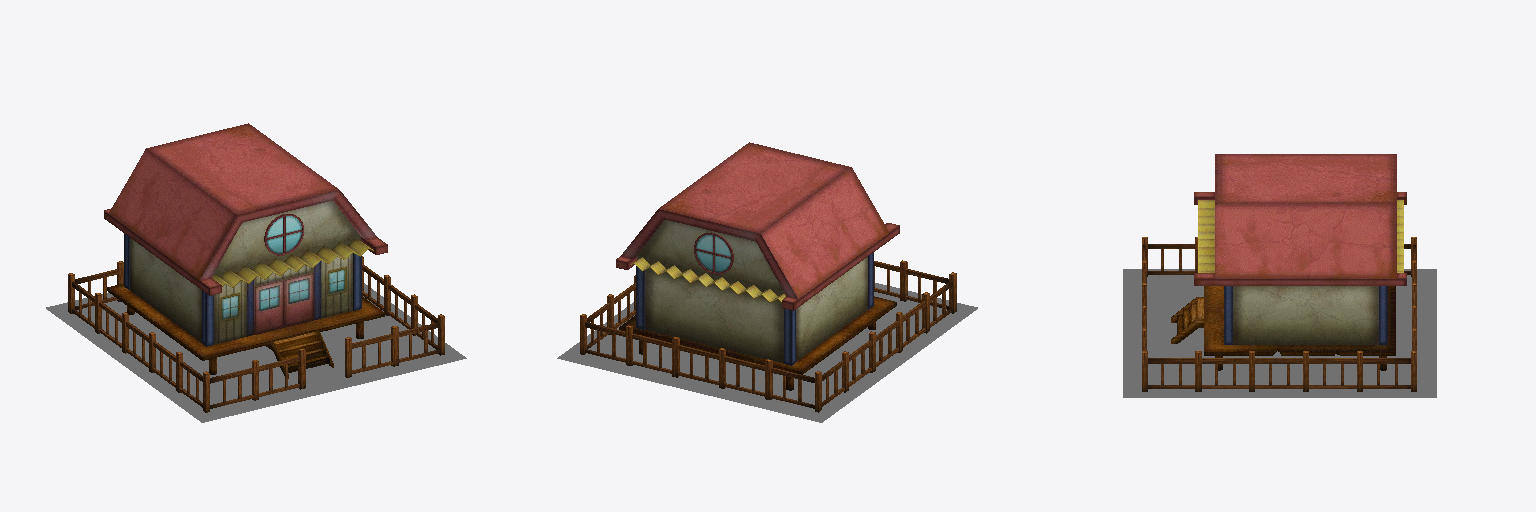
The picture shows the model from 3 angles: view 1: azimuth 30°, elevation 25°; view 2: azimuth 150°, elevation 25°; view 3: azimuth 270°, elevation 25°; orthographic projection.
Parts seen in each view (by area): view 1: Object_farm_build_07_jpg, Object_farm_build_07_tile_jpg; view 2: Object_farm_build_07_jpg, Object_farm_build_07_tile_jpg; view 3: Object_farm_build_07_jpg, Object_farm_build_07_tile_jpg.
Boxes of the visible parts, box(x1,y1,x2,y2) form: Object_farm_build_07_jpg: box(68, 123, 444, 412); Object_farm_build_07_tile_jpg: box(46, 283, 466, 422); Object_farm_build_07_jpg: box(580, 142, 956, 412); Object_farm_build_07_tile_jpg: box(557, 283, 977, 422); Object_farm_build_07_jpg: box(1142, 154, 1416, 391); Object_farm_build_07_tile_jpg: box(1123, 269, 1436, 397).
Size of the model in its own units: 2.43 by 1.35 by 2.5.
2 materials, 1 textured.